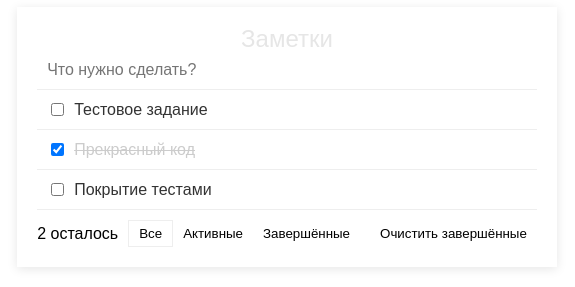
it: TodoApp › Очистка завершённых задач
What coordinates should you click on to do the following:
click the button "Очистить завершённые"
I would click on:
 (453, 234)
Its box is [370,221,537,246].
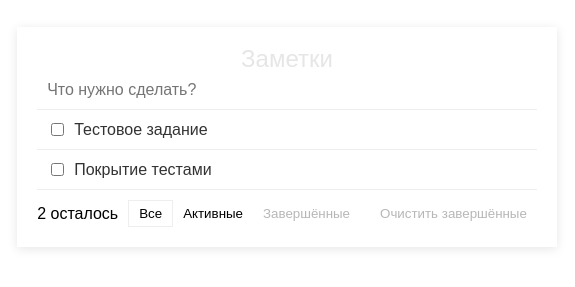
Check: the text "2 осталось" is shown, box [37,206,118,222]
Check: the list item "Прекрасный код" is gone
